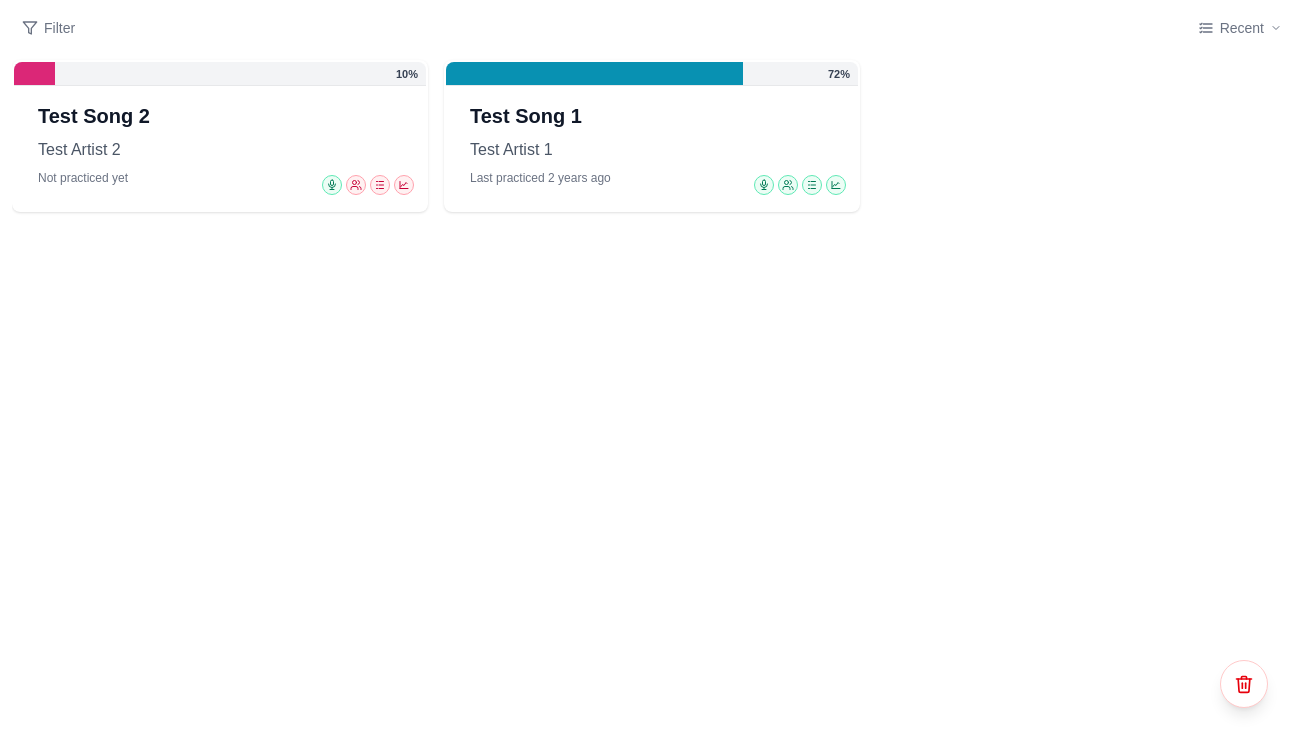
Scenario: SongBrowser › hides delete controls until edit mode is enabled
This screenshot has width=1304, height=732.
Check: the element with test id "song-browser-grid" is shown, box [12,60,860,212]
Click the button with test id "song-browser-toggle-edit-mode": {"x": 1244, "y": 684} [1220,660,1268,708]
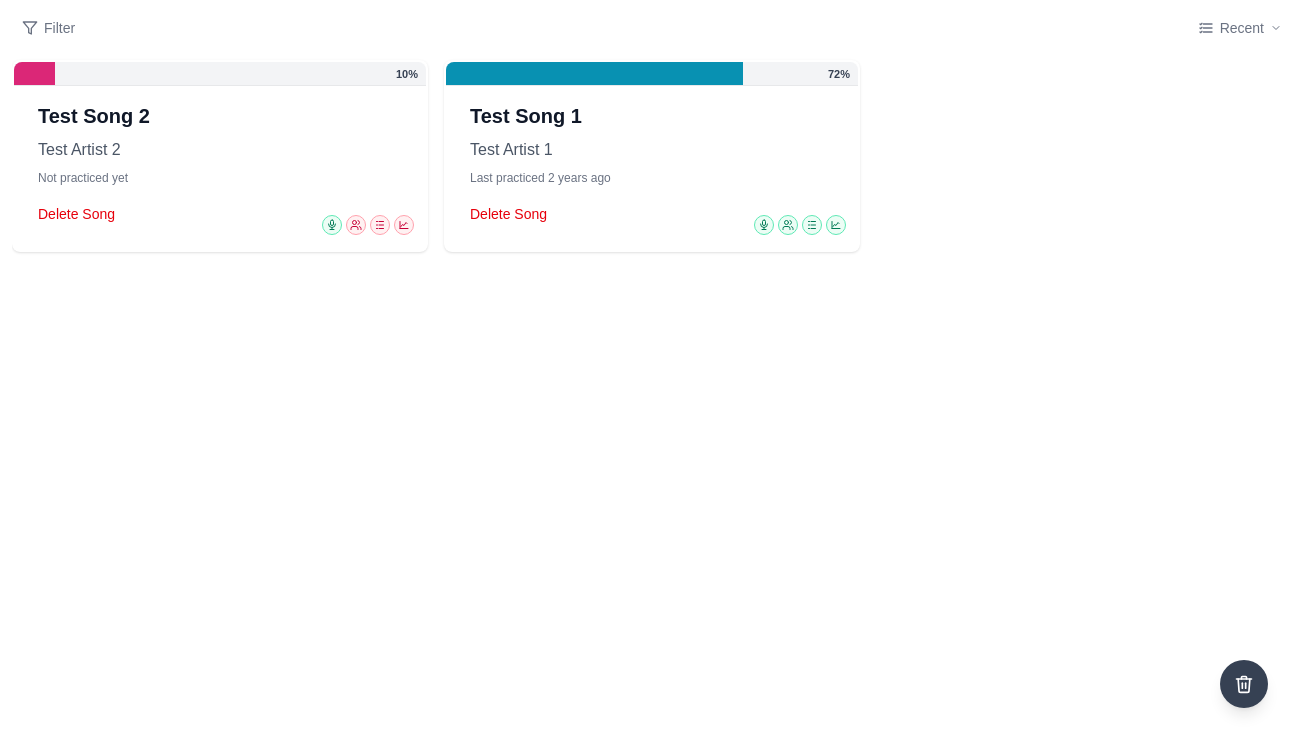
Check: the button with test id "song-delete-song-1" is shown, box [470,204,547,224]
